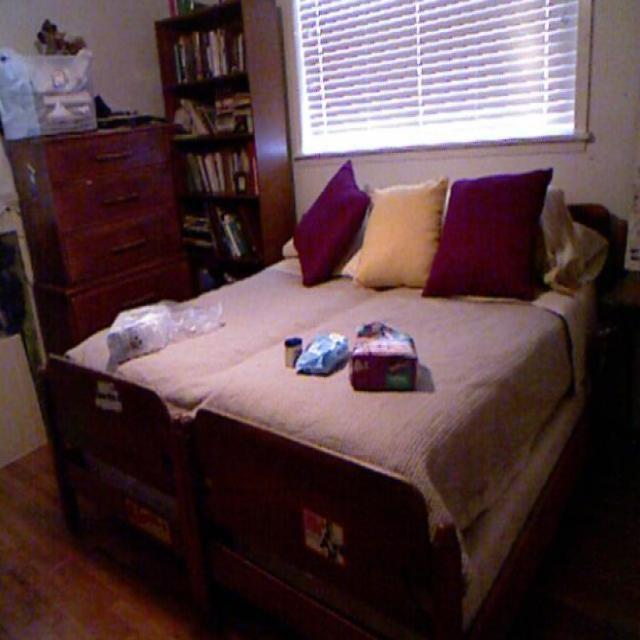obstacle: (31, 206, 605, 609)
